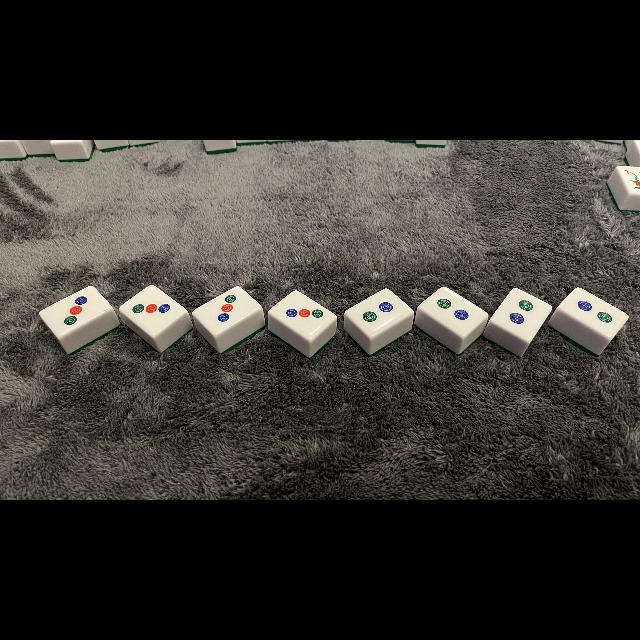d2: (564, 293, 624, 331), (428, 291, 478, 329), (498, 293, 548, 331), (354, 294, 401, 328)
d3: (50, 291, 100, 331), (204, 291, 250, 329), (278, 296, 326, 332), (130, 292, 177, 328)
